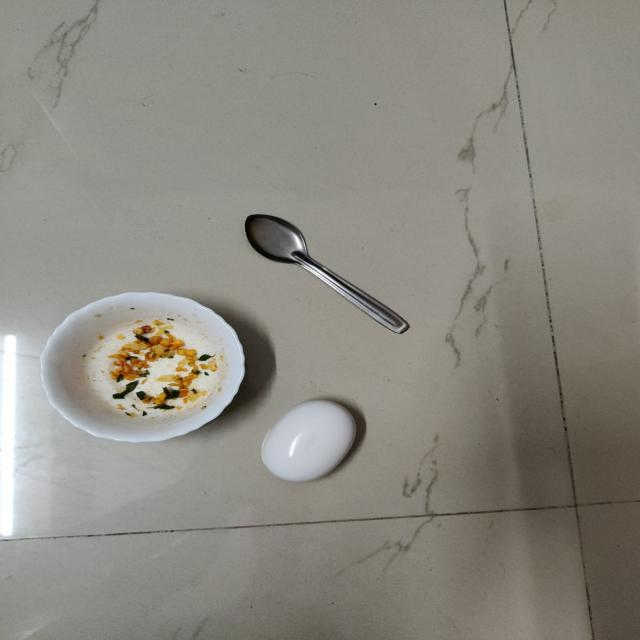dry: (32, 291, 247, 449), (237, 203, 420, 350), (254, 393, 377, 484)
